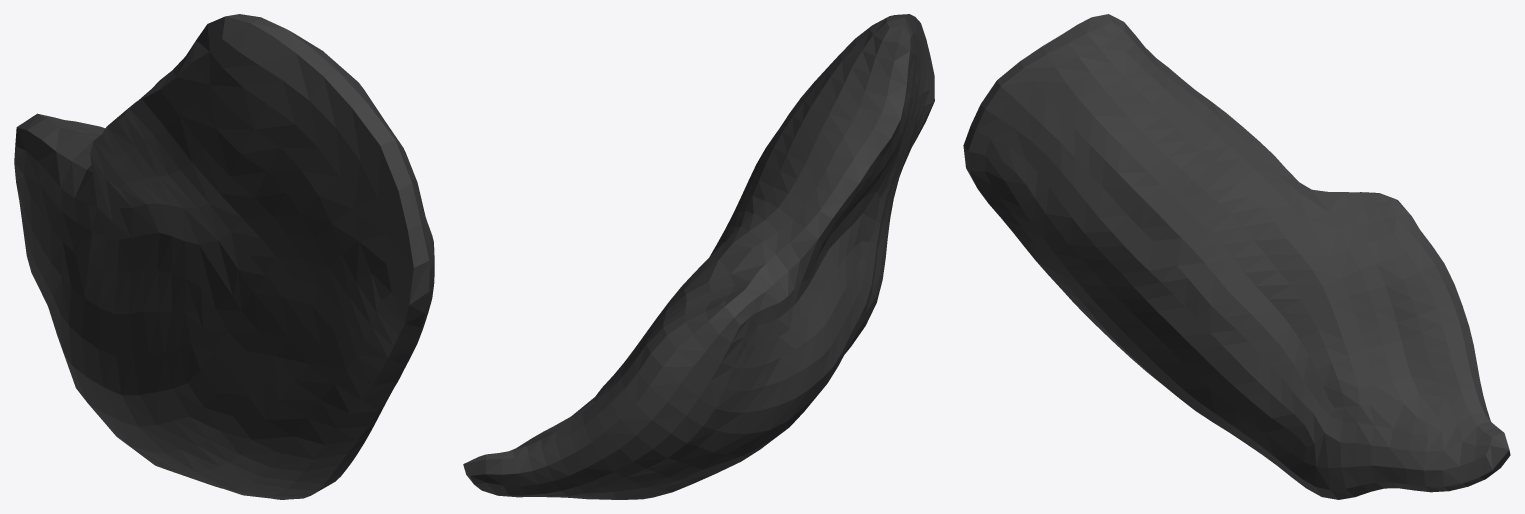
The model's file is pterygoid_med.glb.
3 renders of one model, left to right at view 1: azimuth 30°, elevation 25°; view 2: azimuth 150°, elevation 25°; view 3: azimuth 270°, elevation 25°, orthographic. The views are drawn at different scales.
Visible parts, largest first — view 1: pterygoid_med; view 2: pterygoid_med; view 3: pterygoid_med.
Part boxes in pixels (x1,y1,x2,y2): pterygoid_med: (14, 14, 434, 499); pterygoid_med: (463, 14, 934, 499); pterygoid_med: (963, 14, 1510, 499).
Bounding box in the file's own units: 0.4239 × 0.6505 × 0.7987.
Materials: 1 (1 with a texture image).
